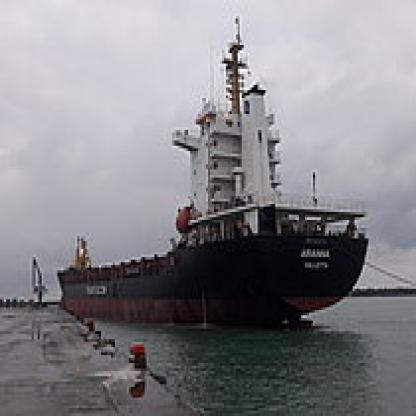Tanker: (56, 5, 376, 342)
